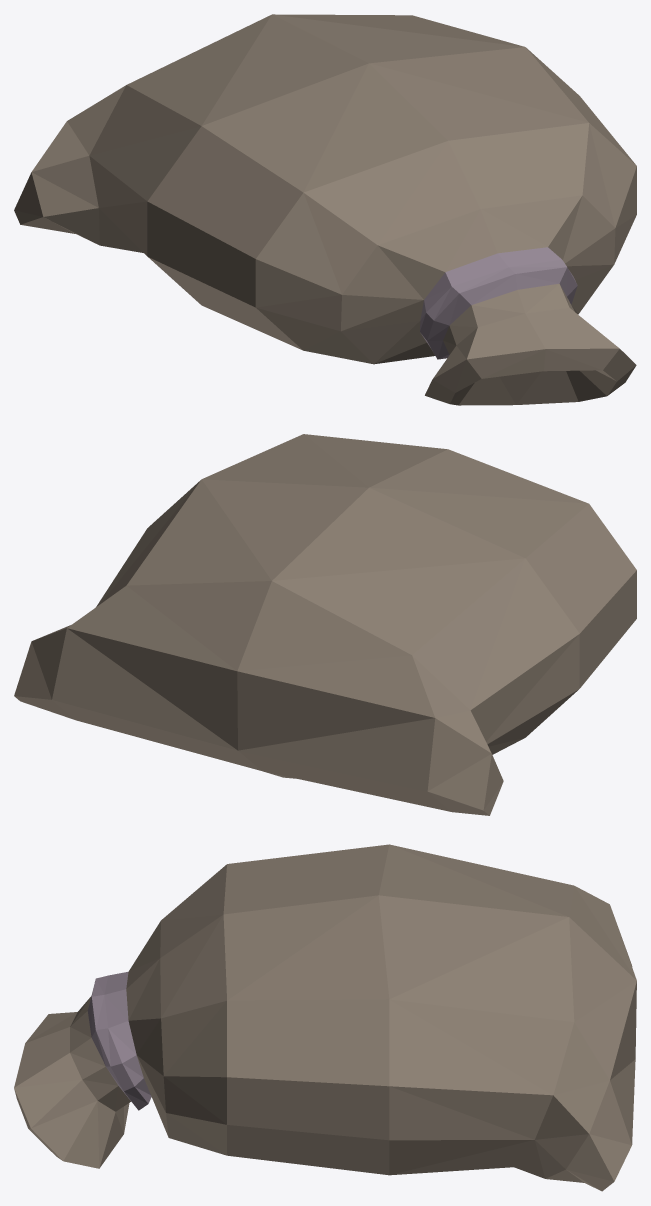
Rendered from SM_Prop_Sack_03.fbx.
3 views of the same model, one above another, from view 1: azimuth 30°, elevation 25°; view 2: azimuth 150°, elevation 25°; view 3: azimuth 270°, elevation 25° (orthographic). The views are drawn at different scales.
Parts seen in each view (by area): view 1: SM_Prop_Sack_03; view 2: SM_Prop_Sack_03; view 3: SM_Prop_Sack_03.
Part boxes in pixels (x1,y1,x2,y2): SM_Prop_Sack_03: (14,14,636,405); SM_Prop_Sack_03: (14,434,636,815); SM_Prop_Sack_03: (14,844,636,1191).
Size of the model in its own units: 0.00497 by 0.00244 by 0.00582.
Materials: 1 (1 with a texture image).
